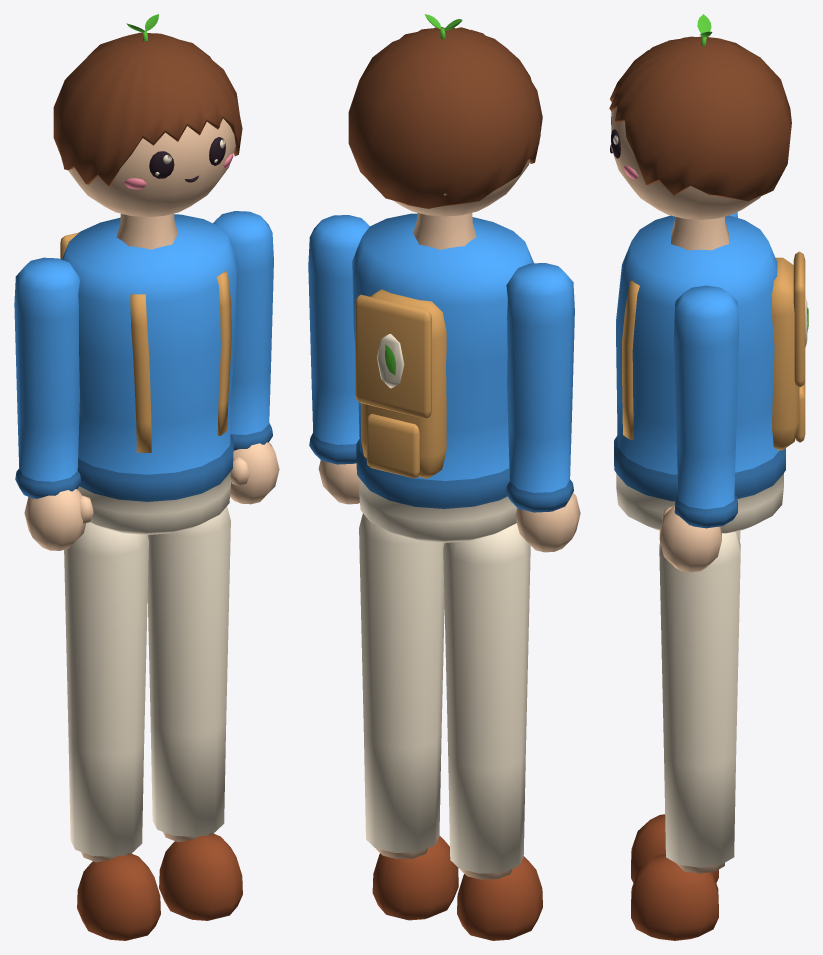
File: hero-man-grown.glb
3 renders of one model, left to right at view 1: azimuth 30°, elevation 25°; view 2: azimuth 150°, elevation 25°; view 3: azimuth 270°, elevation 25°, orthographic. The views are drawn at different scales.
Parts seen in each view (by area): view 1: body, leg-left, leg-right, head, arm-left, arm-right; view 2: body, leg-left, head, leg-right, arm-left, arm-right; view 3: body, leg-right, head, arm-right, leg-left.
Boxes of the visible parts, box(x1,y1,x2,y2) form: body: box(60, 214, 237, 534); leg-left: box(64, 522, 160, 940); leg-right: box(147, 506, 242, 920); head: box(53, 32, 242, 249); arm-left: box(14, 257, 93, 550); arm-right: box(213, 211, 279, 504); body: box(352, 213, 533, 542); leg-left: box(443, 523, 542, 940); head: box(348, 27, 542, 249); leg-right: box(359, 513, 458, 920); arm-left: box(506, 263, 580, 552); arm-right: box(308, 215, 369, 504); body: box(614, 215, 808, 533); leg-right: box(631, 531, 740, 940); head: box(609, 36, 791, 250); arm-right: box(659, 285, 738, 572); leg-left: box(631, 531, 740, 882).
Bounding box in the file's own units: 0.9172 × 3.11 × 0.6335.
